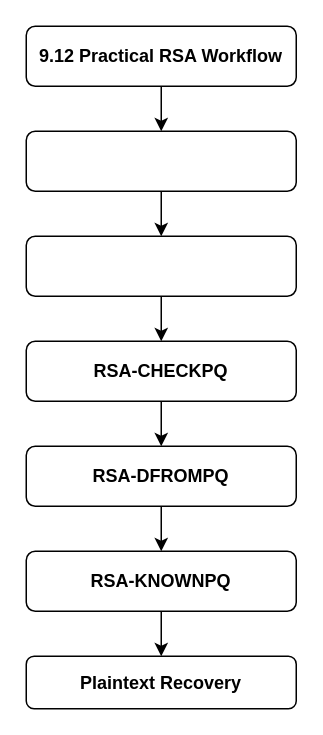
Some shapes in this 323 by 735 pixel diagram are drawn without their labels. Each missing label, with the centre of its shape:
"RSA-FACTOR" goes at point 160,160.
"RSA-RHO / RSA-ECM (if needed)" goes at point 160,265.
